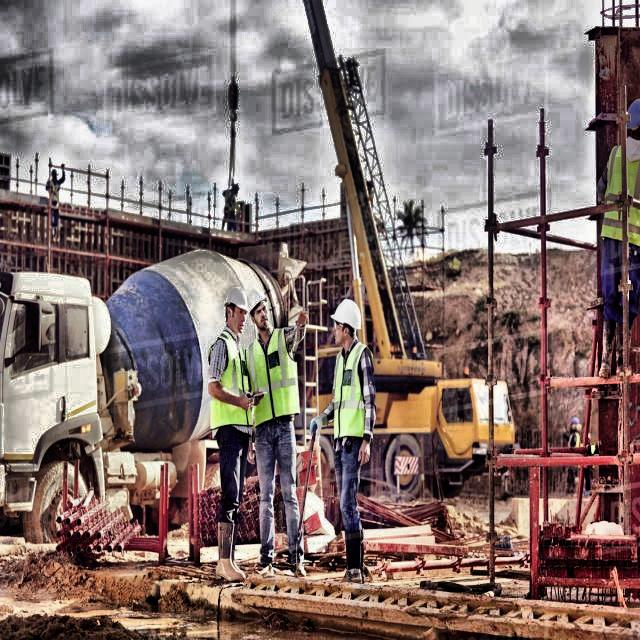person: (247, 282, 310, 565), (328, 286, 379, 592), (206, 292, 256, 584)
